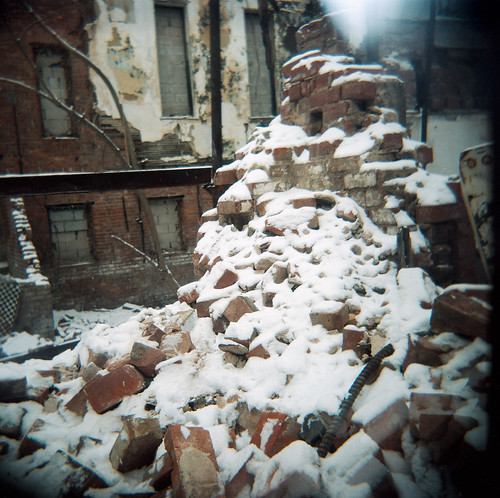debris: (1, 24, 496, 498)
